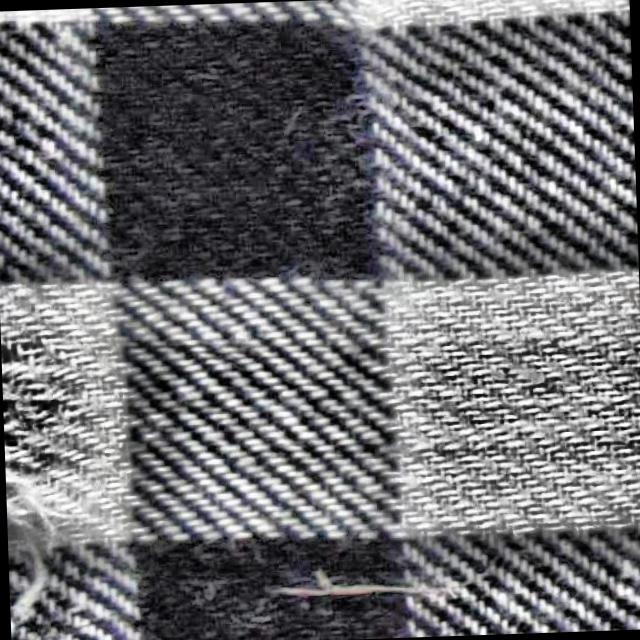gray stitch: (271, 548, 527, 610), (7, 494, 100, 640)
